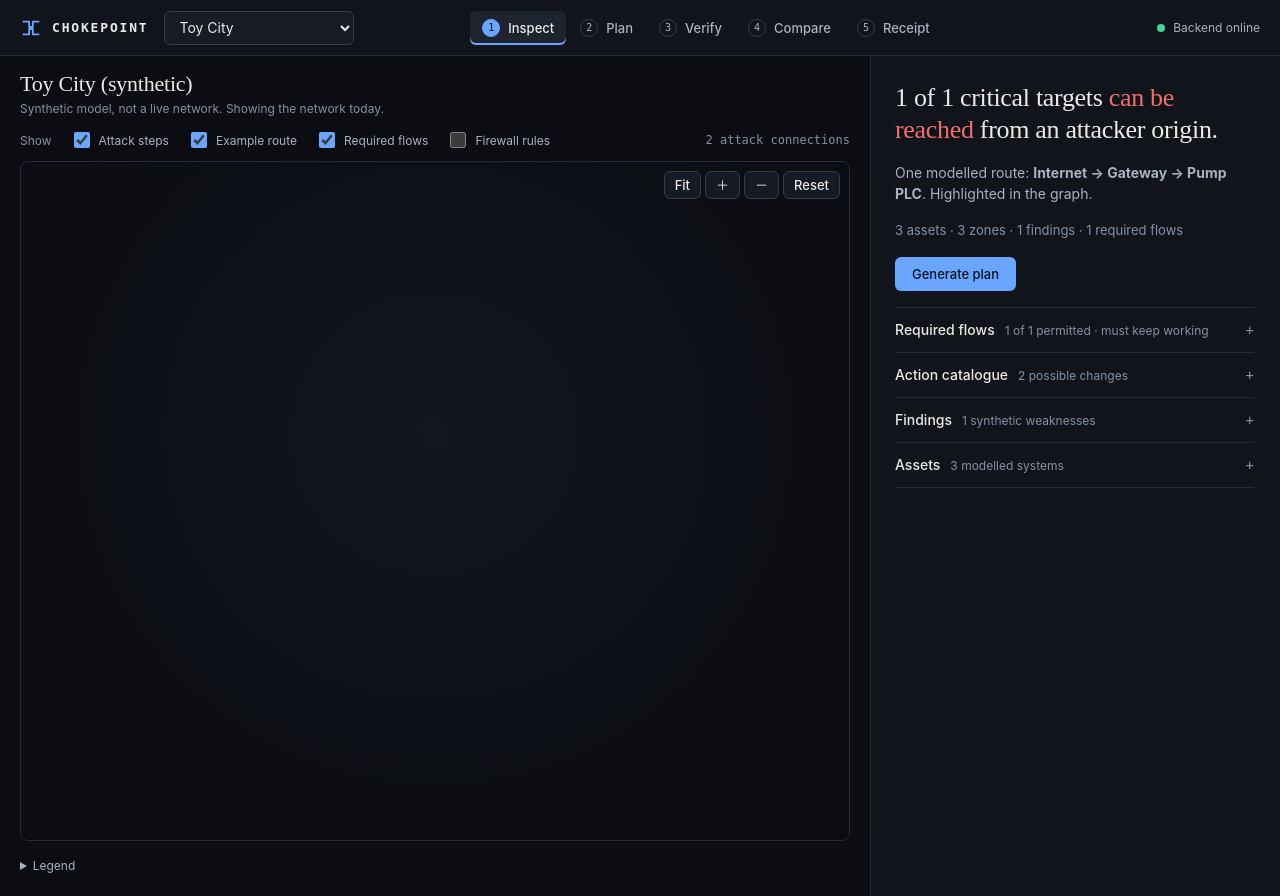
Test: product workflow against the API contract › shows a visible error when the plan request fails
The width and height of the screenshot is (1280, 896).
Click the button "2 Plan" at (607,28), box [568, 10, 645, 44]
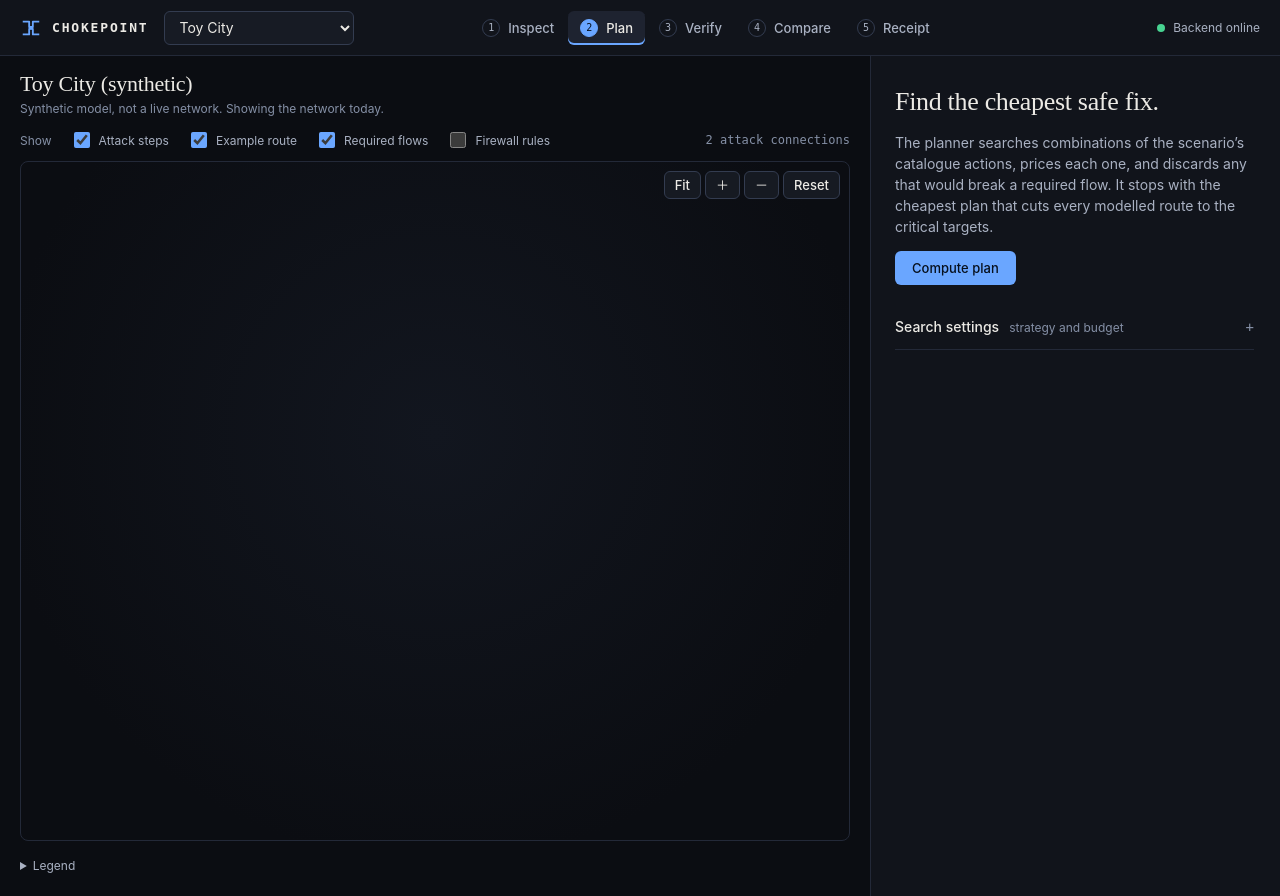
Click the button with test id "compute-plan" at (955,268), box [895, 251, 1016, 285]
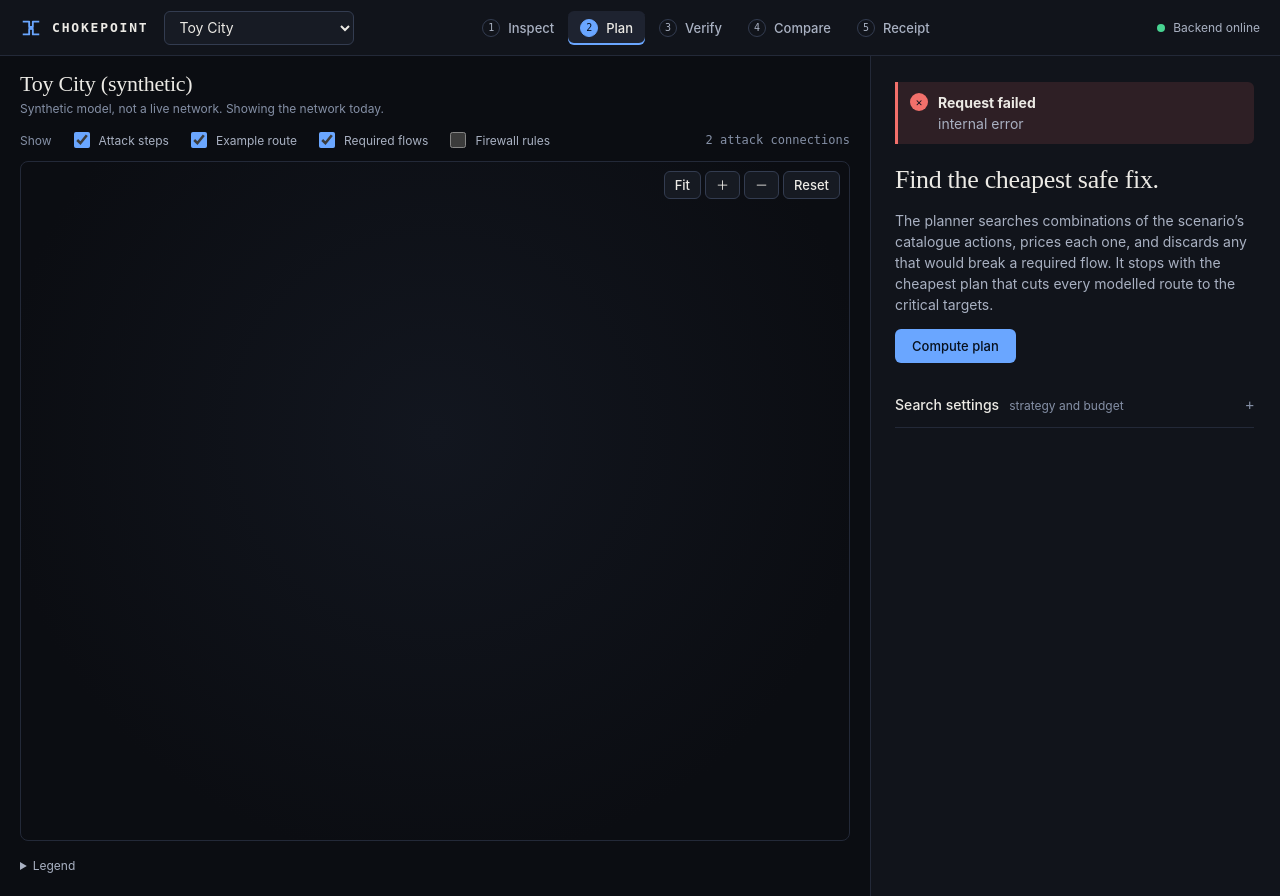
Expected: the message "✕ Request failed internal error" is shown, [895, 82, 1254, 144]
